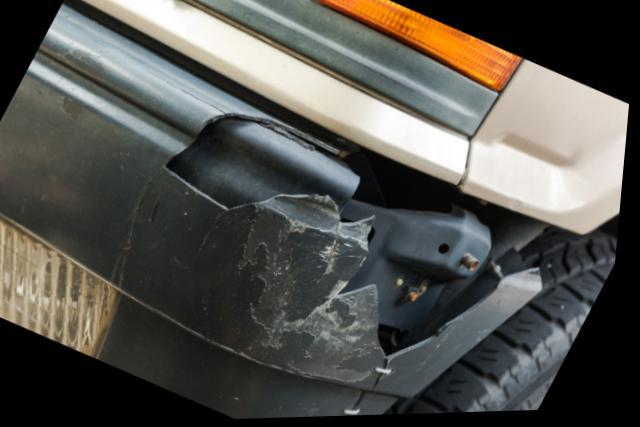crack: (165, 112, 543, 365)
